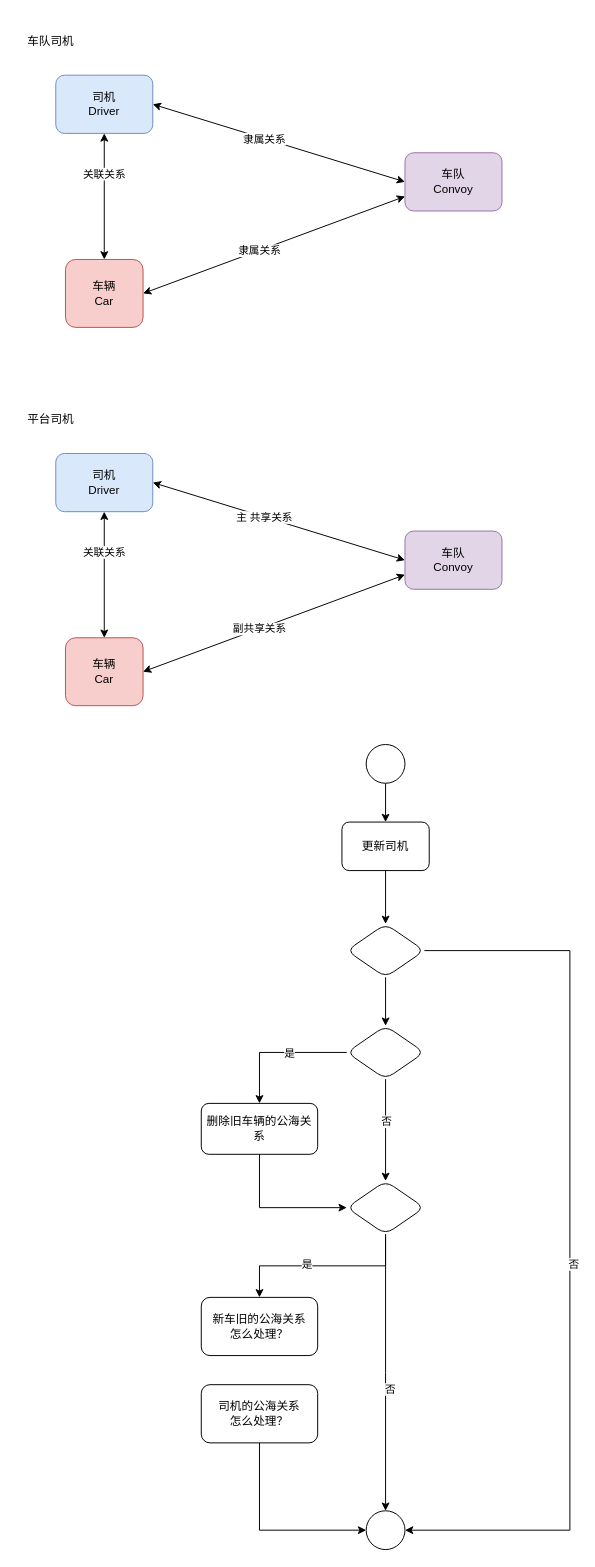
This 595x1567 diagram has some shape labels left out. Here are the shapes that lost their labels. From the top down, the centre of each, then its label:
the point at 385,763: 开始
the point at 385,950: 是否更新车辆信息
the point at 385,1052: 是否有旧的车辆
the point at 385,1207: 是否有新的车辆信息
the point at 385,1530: 结束
